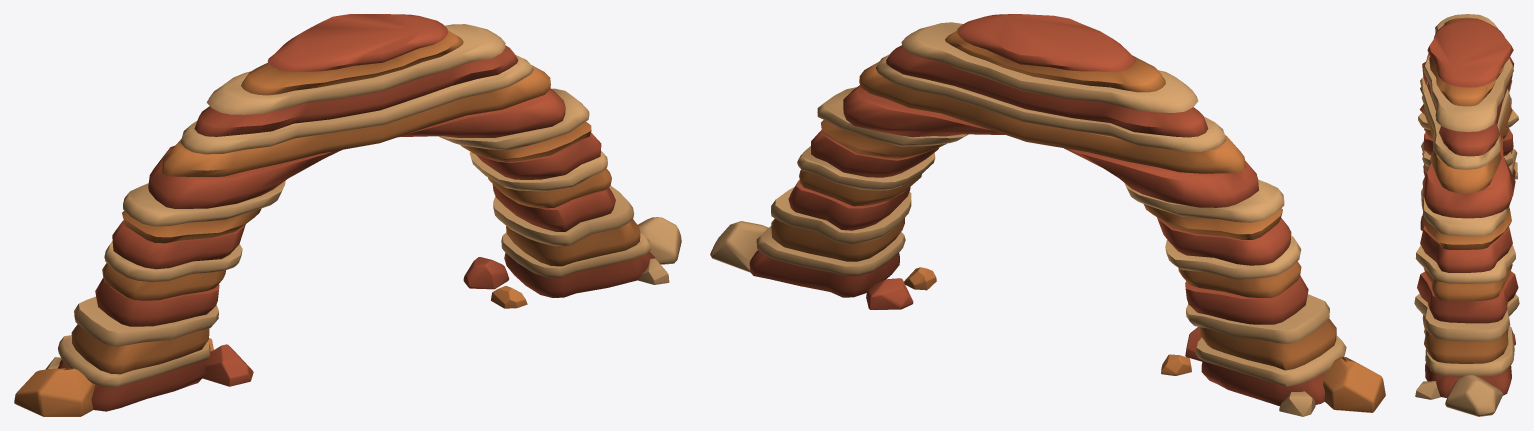
The model's file is desert-arch.glb.
The picture shows the model from 3 angles, left to right: view 1: azimuth 30°, elevation 25°; view 2: azimuth 150°, elevation 25°; view 3: azimuth 270°, elevation 25°; orthographic projection. The views are drawn at different scales.
Parts seen in each view (by area): view 1: Desert arch Sandstone rust, Desert arch Sandstone sand, Desert arch Sandstone amber; view 2: Desert arch Sandstone rust, Desert arch Sandstone sand, Desert arch Sandstone amber; view 3: Desert arch Sandstone rust, Desert arch Sandstone sand, Desert arch Sandstone amber.
Part boxes in pixels (x1,y1,x2,y2): Desert arch Sandstone rust: (58, 14, 655, 411); Desert arch Sandstone sand: (45, 24, 681, 387); Desert arch Sandstone amber: (14, 30, 640, 416); Desert arch Sandstone rust: (749, 14, 1324, 406); Desert arch Sandstone sand: (710, 22, 1346, 416); Desert arch Sandstone amber: (771, 31, 1385, 412); Desert arch Sandstone rust: (1417, 18, 1518, 397); Desert arch Sandstone sand: (1414, 14, 1519, 416); Desert arch Sandstone amber: (1420, 17, 1512, 363).
Size of the model in its own units: 51.41 by 21.55 by 8.56.
